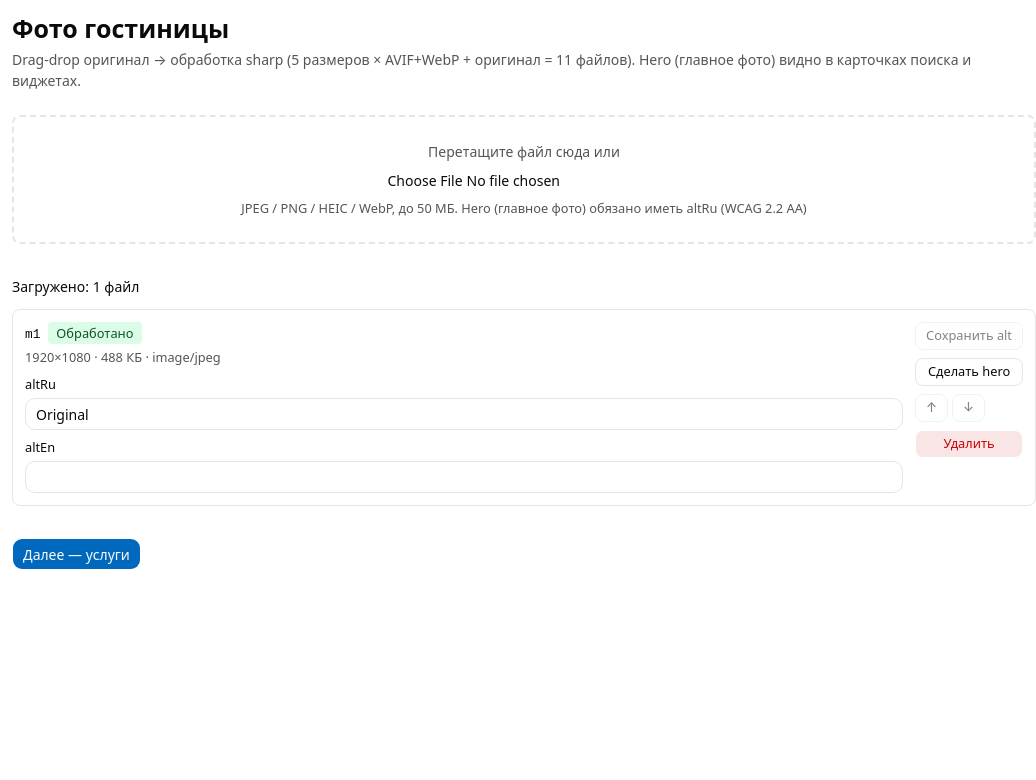
Test: <MediaStep> — media row interactions › [M7] alt edited (dirty) → "Сохранить alt" button enabled
# One label inside the row (the row's editable field).
Replace the text in the field labelled "altRu" with "Edited": (464, 414) [25, 398, 903, 430]
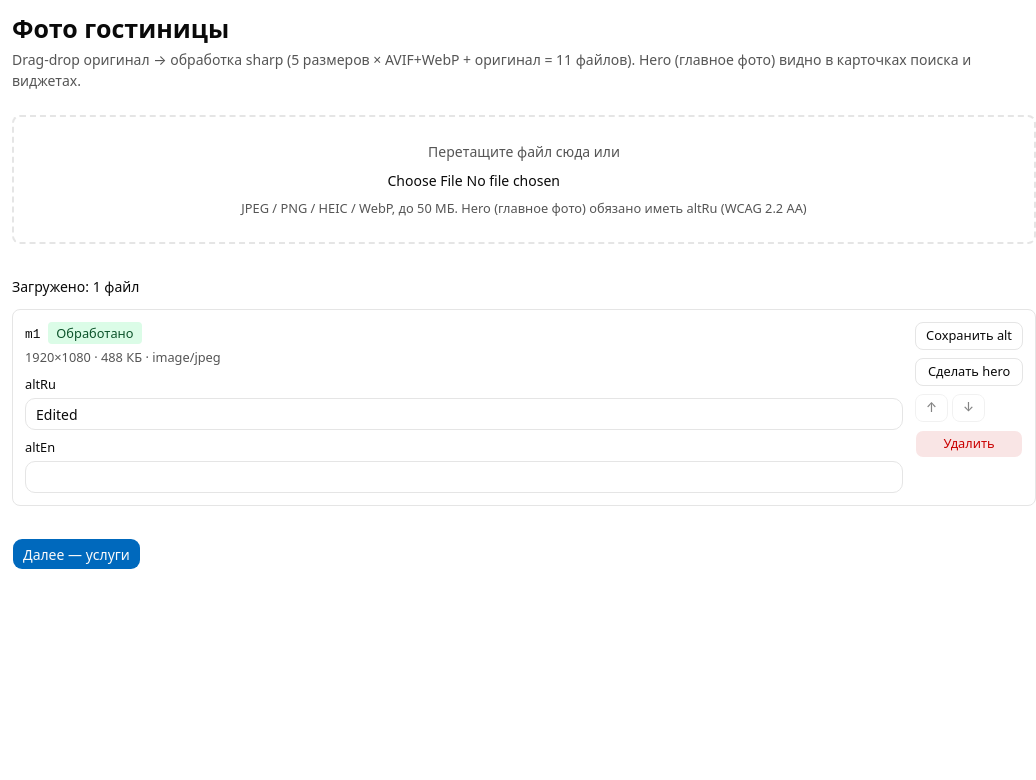
Check: the button "Сохранить alt" is enabled, box [915, 322, 1023, 350]
